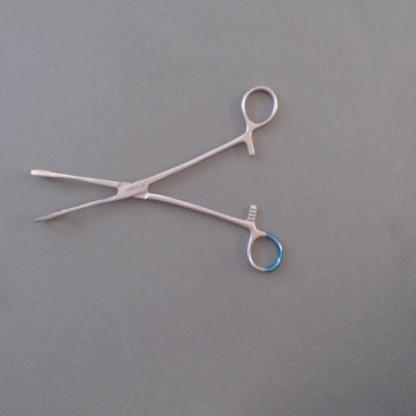Sponge Forceps: (25, 73, 288, 282)
